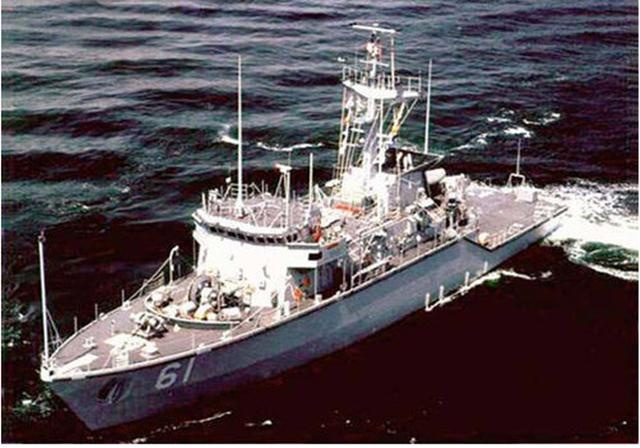warship: (37, 20, 549, 426)
